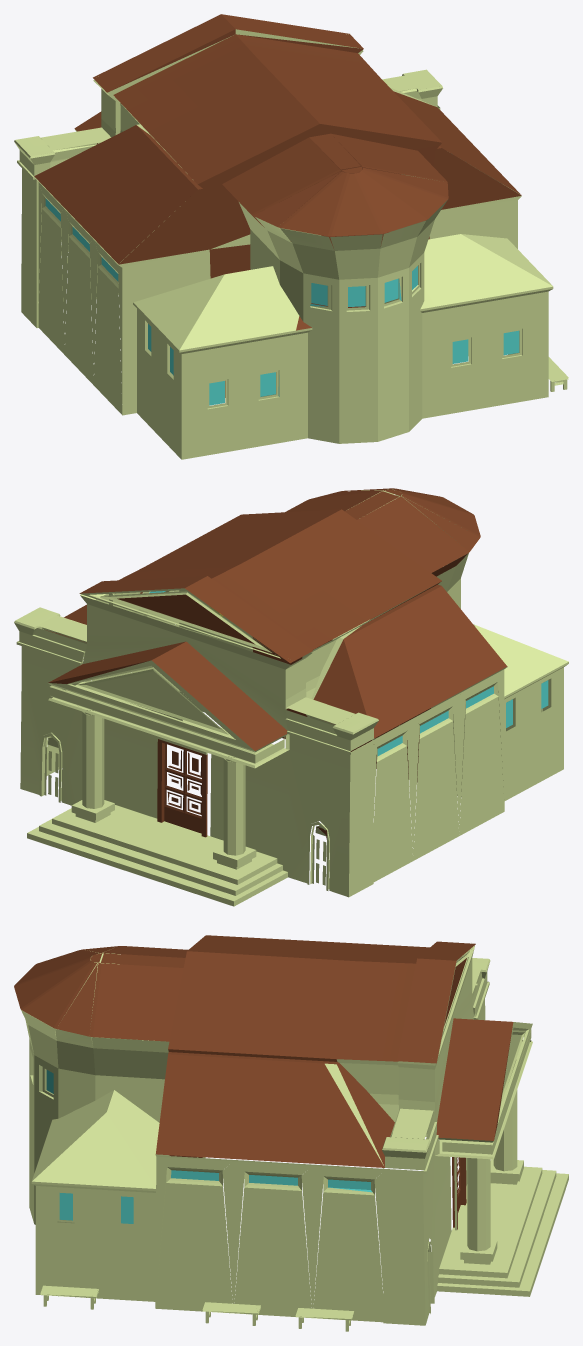
Rendered from public.glb.
The picture shows the model from 3 angles, top to bottom: view 1: azimuth 30°, elevation 25°; view 2: azimuth 150°, elevation 25°; view 3: azimuth 270°, elevation 25°; orthographic projection. The views are drawn at different scales.
Parts seen in each view (by area): view 1: public building; view 2: public building; view 3: public building.
Boxes of the visible parts, x1=… form: public building: x1=14, y1=14, x2=568, y2=459; public building: x1=14, y1=488, x2=568, y2=906; public building: x1=14, y1=935, x2=568, y2=1331.
Bounding box in the file's own units: 202 × 123 × 227.
2 materials, 2 textured.
